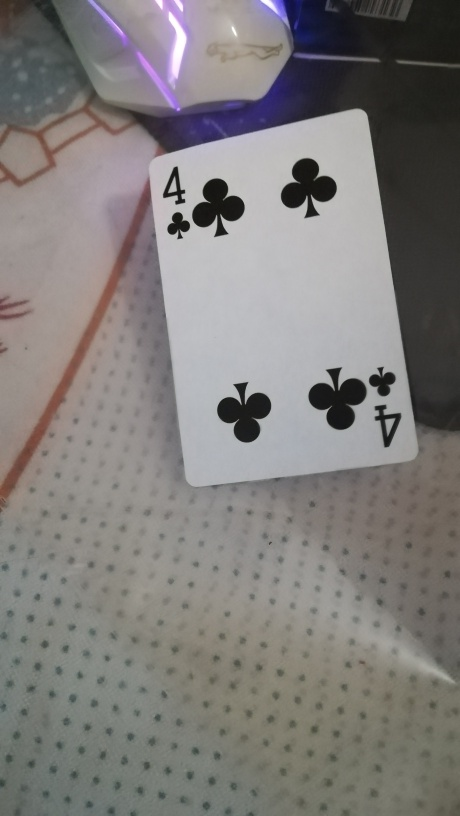mh 4: (148, 104, 421, 486)
